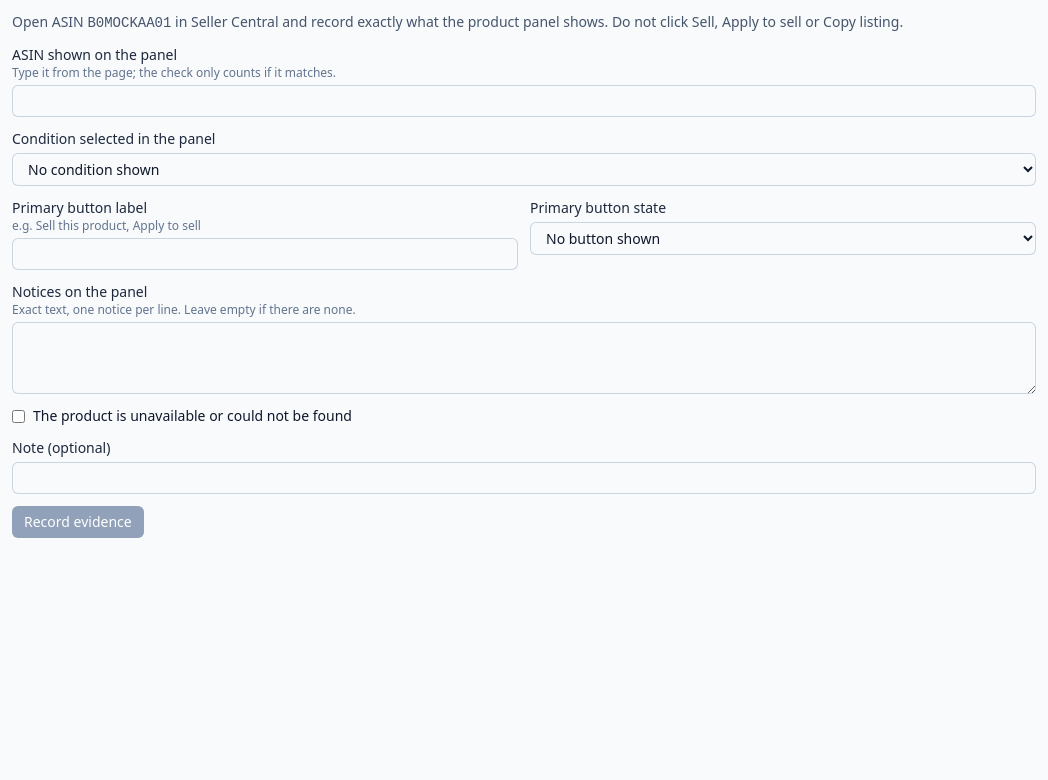
ManualEvidenceForm › reports the status the server derived, and resets the form
In the field labelled "ASIN shown on the panel": (524, 101) [12,85,1036,117], type "B0MOCKZZ99"
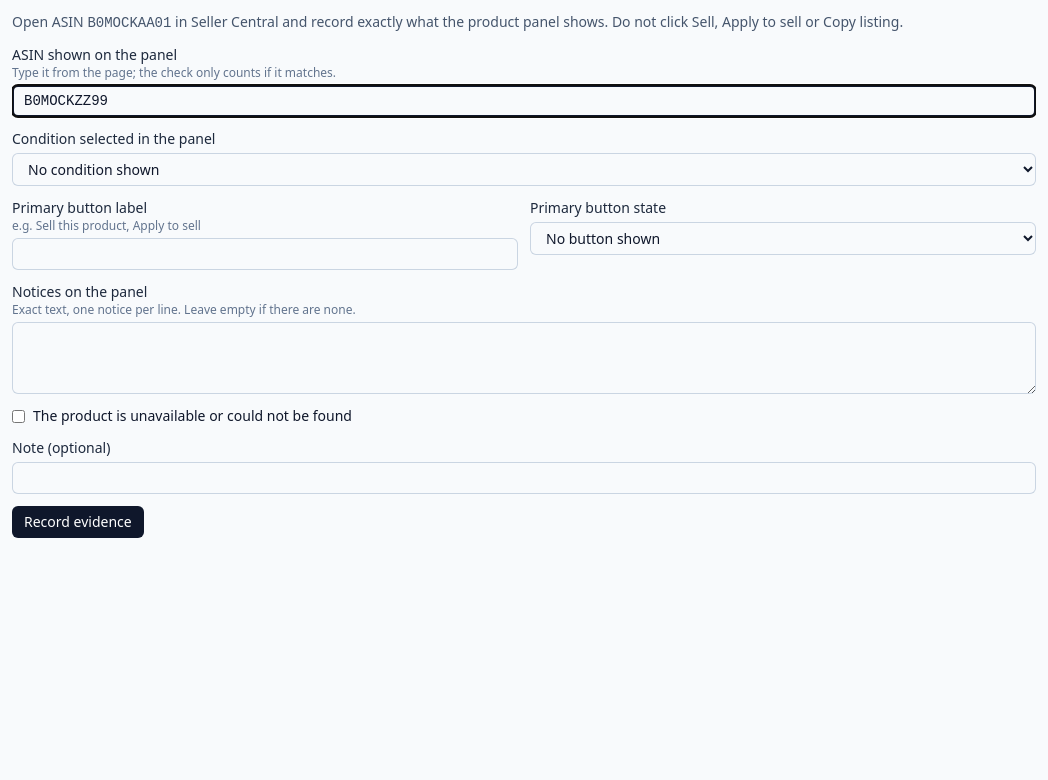
Click the button "Record evidence": (78, 522) [12,506,144,538]
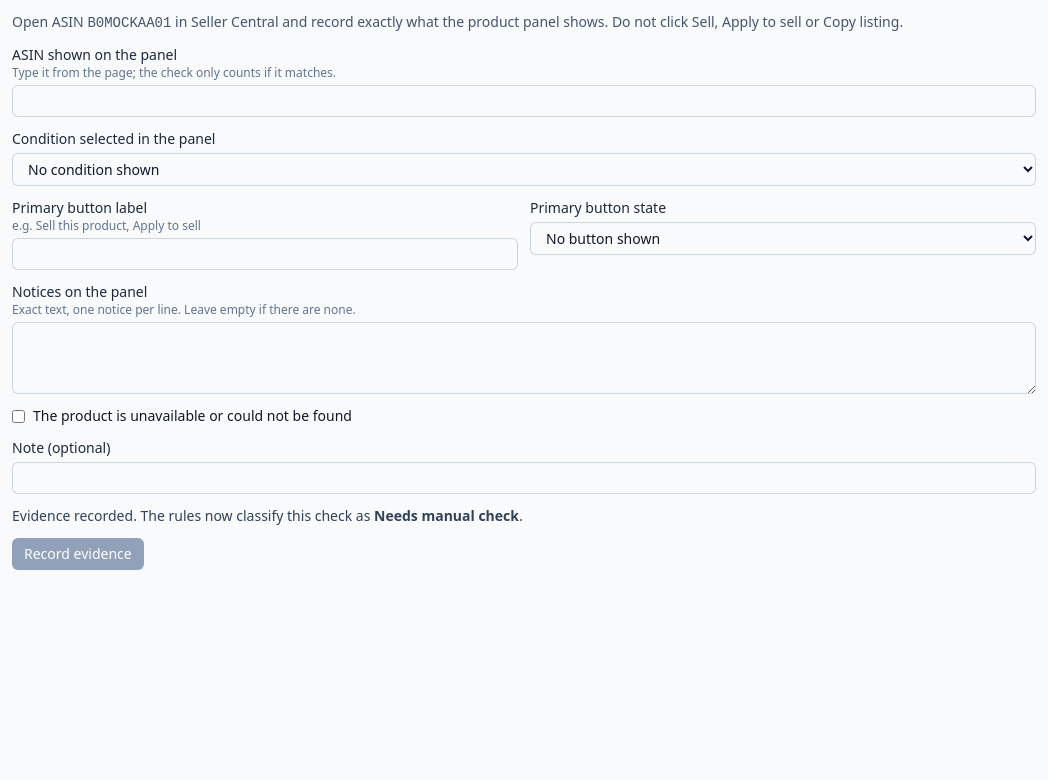
Expected: the message shows "Needs manual check", [374,506,519,525]
Expected: the field labelled "ASIN shown on the panel" is empty, [12,85,1036,117]
